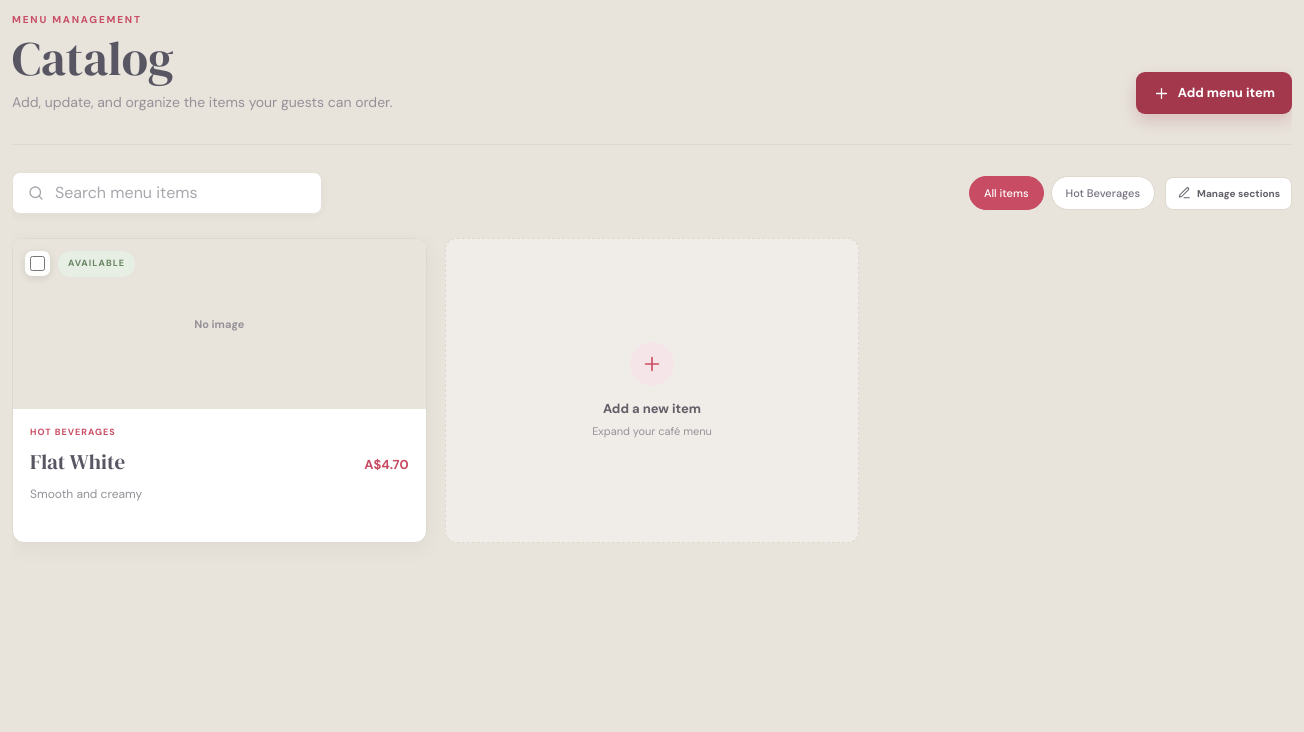
Test: CatalogPage › shows the empty state when filters match nothing
The image size is (1304, 732).
Type "nothing" into the field with placeholder "Search menu items" at (181, 193), box [55, 181, 307, 205]
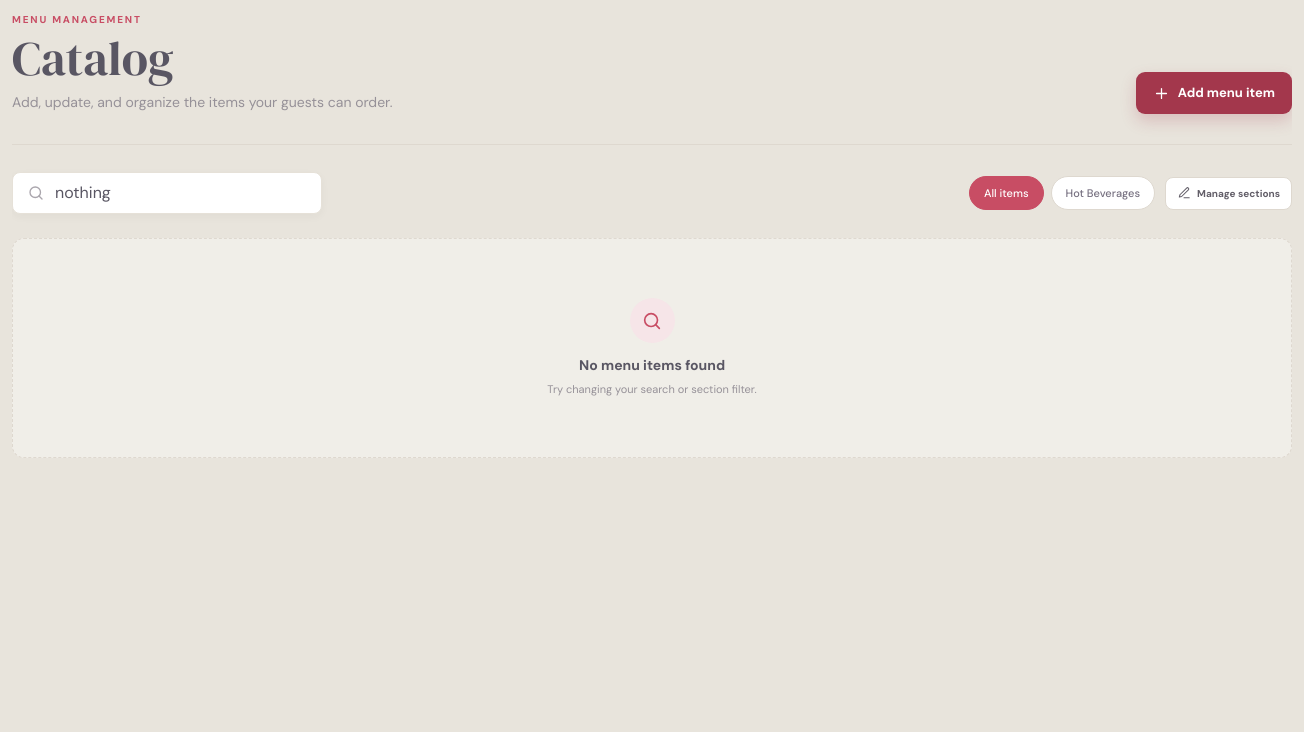
Expected: the text "No menu items found" is shown, [579, 355, 725, 376]
